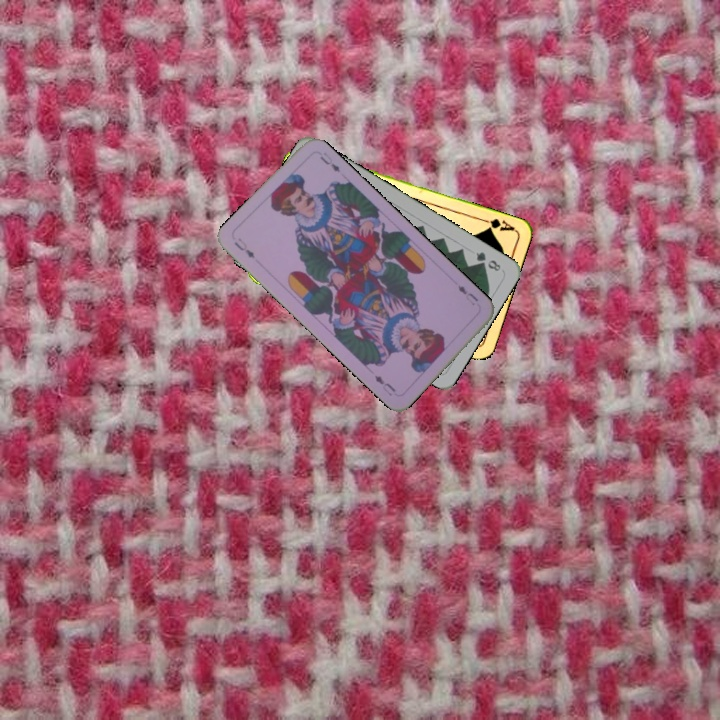EU: (453, 281, 481, 308), (230, 234, 257, 261)
G8: (472, 248, 503, 274)
GA: (478, 214, 517, 234)
